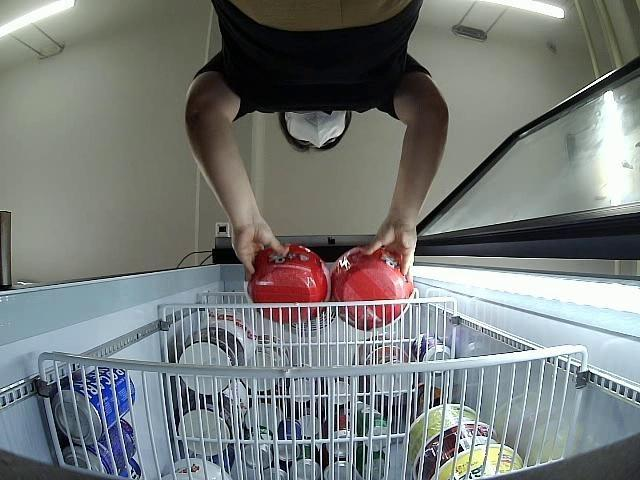10_wangTtukkeong: (246, 243, 331, 324), (332, 249, 413, 331)
